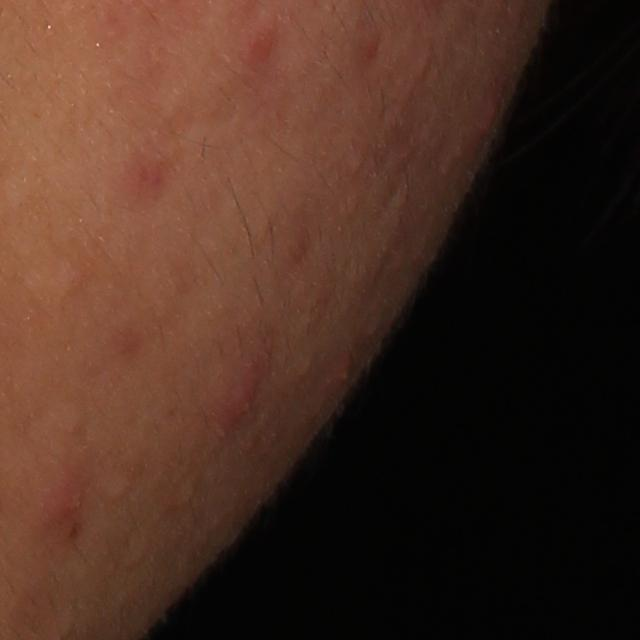papule: (41, 473, 94, 532), (245, 28, 278, 69), (480, 88, 504, 141), (331, 359, 356, 389)
